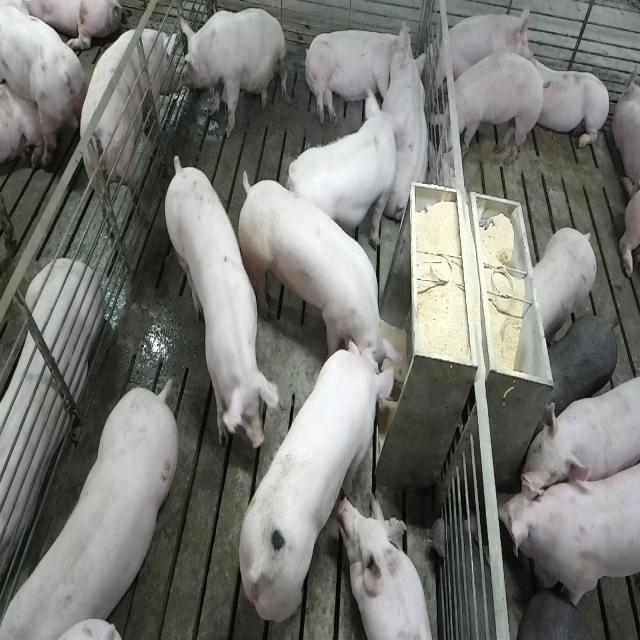Feeding: (236, 335, 400, 625), (232, 167, 400, 381)
Lateral_lying: (302, 18, 417, 129)
Sitting: (179, 6, 287, 138)
Standing: (5, 376, 183, 636), (161, 155, 276, 461), (501, 449, 639, 616), (80, 27, 181, 234), (286, 88, 398, 250), (522, 366, 638, 503), (434, 54, 548, 174), (0, 0, 84, 161), (544, 312, 618, 424), (530, 226, 598, 343), (518, 592, 602, 640)
Sternal_lying: (0, 261, 100, 596), (342, 493, 436, 640), (383, 32, 434, 229), (524, 46, 611, 154)
